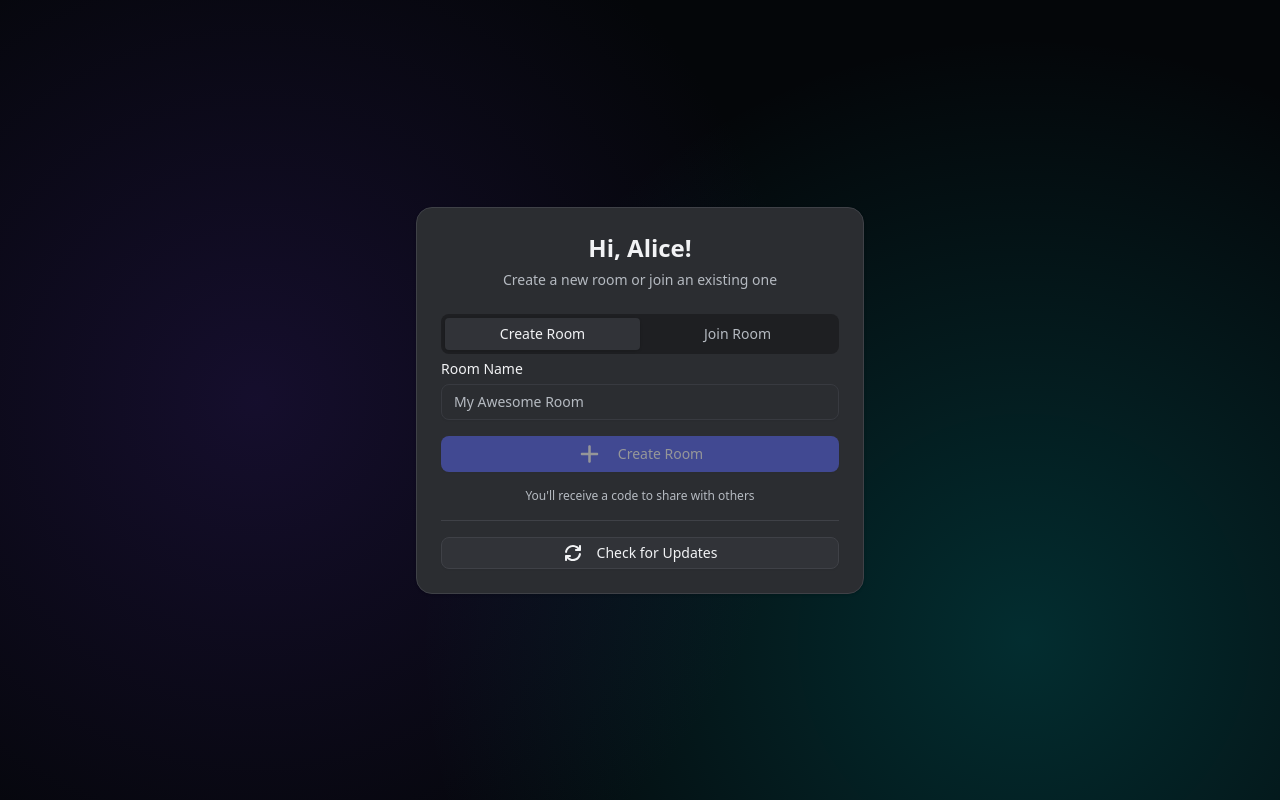
Test: RoomForm › join tab shows room code input
Click the tab "Join Room".
click(738, 334)  # box [640,318,835,350]
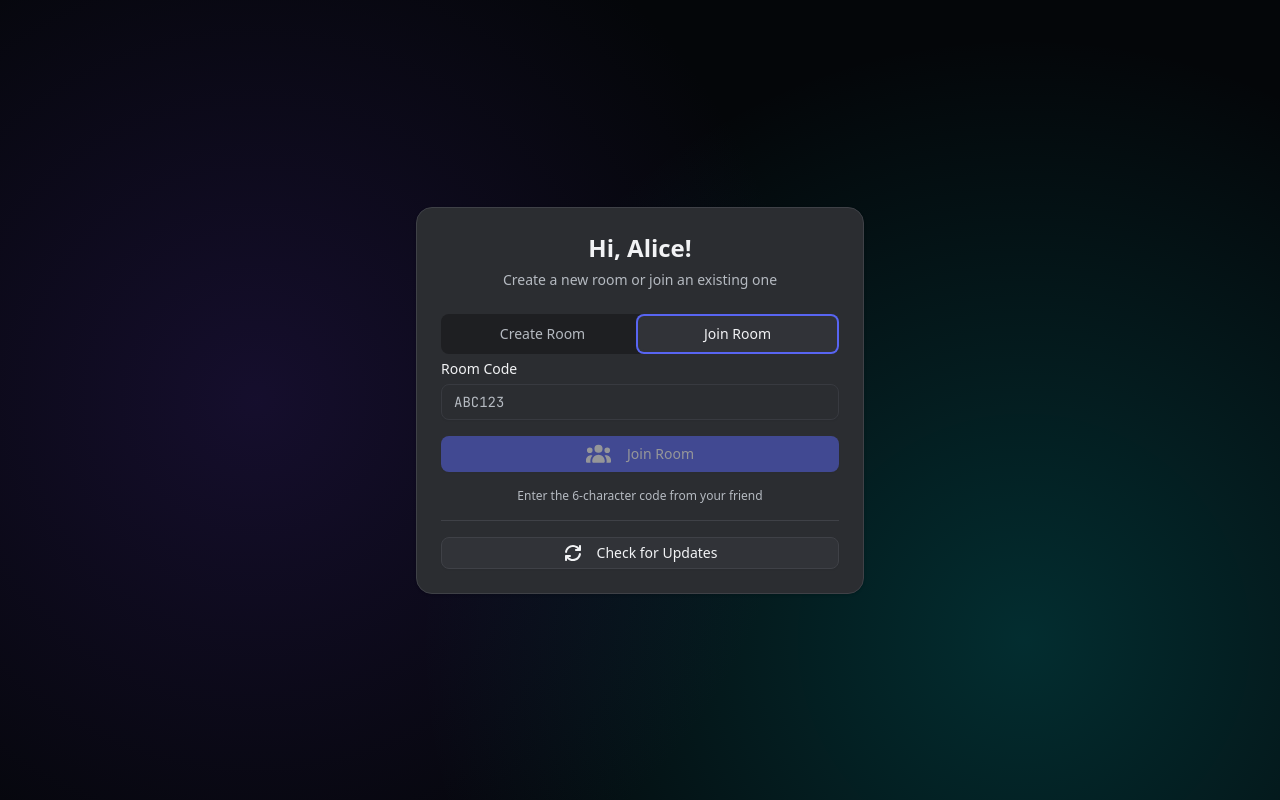
Check: the field labelled "Room Code" is shown, box [441,384,839,420]
